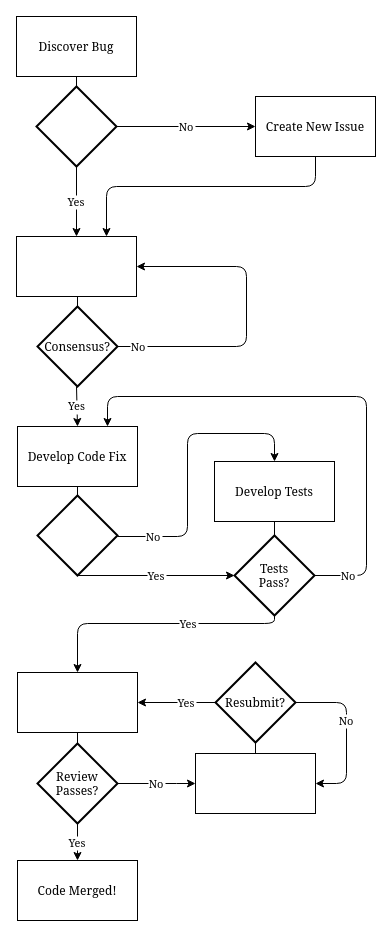
This 392x937 diagram has some shape labels left out. Each missing label, with the centre of its shape:
"Code Rejected" belongs at (x=255, y=783).
"Discuss and Assign Issue" belongs at (x=76, y=266).
"Known Issue?" belongs at (x=76, y=126).
"Submit Pull Request" belongs at (x=77, y=702).
"Sufficient Tests?" belongs at (x=77, y=535).
